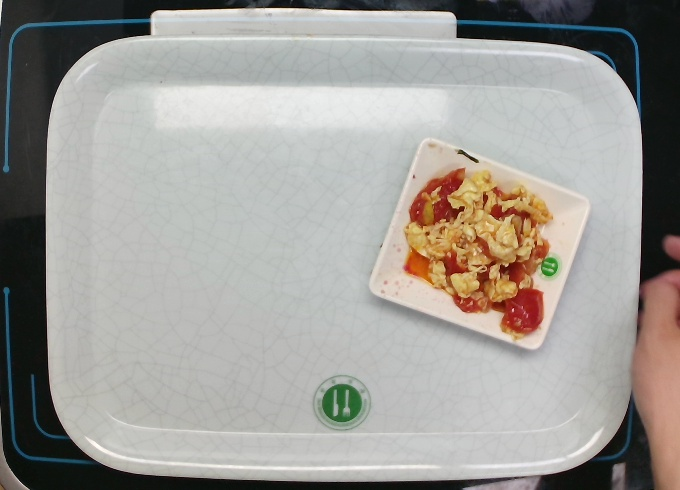WCQzf-Bai_Se_Si_Fang_Die: (364, 135, 590, 354)
